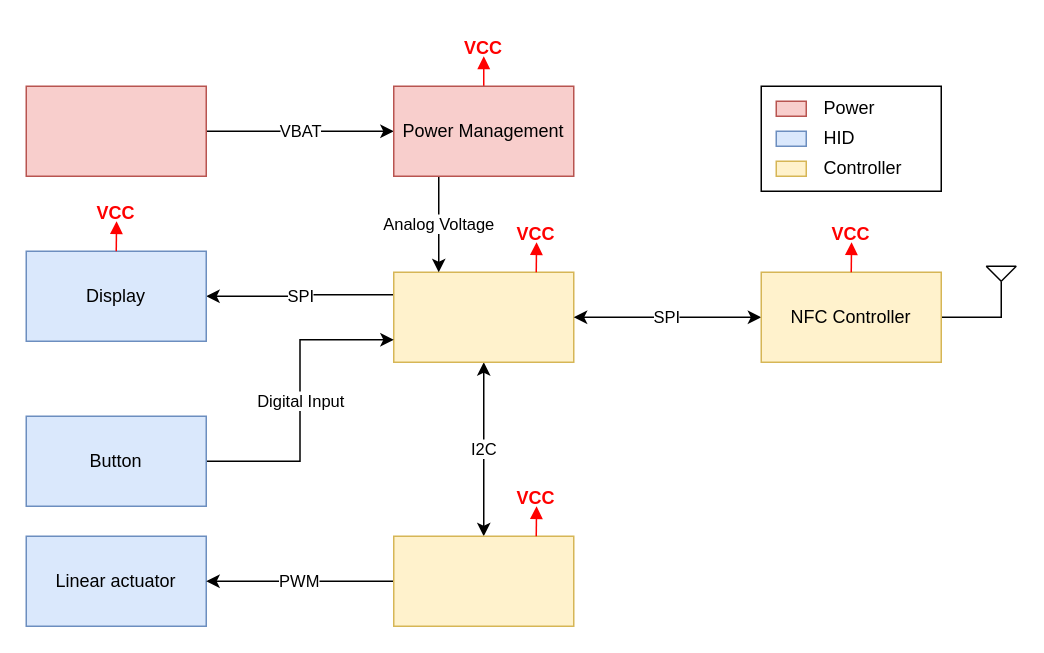
This 1044x653 diagram has some shape labels left out. The shapes that lost their labels are listed below. From the top down, each one's box as (x1, y1, x2, y2) in pixels, then its label:
(25, 85, 206, 176): CR2032
(392, 271, 574, 362): MCU
(392, 535, 574, 626): Haptic controller
